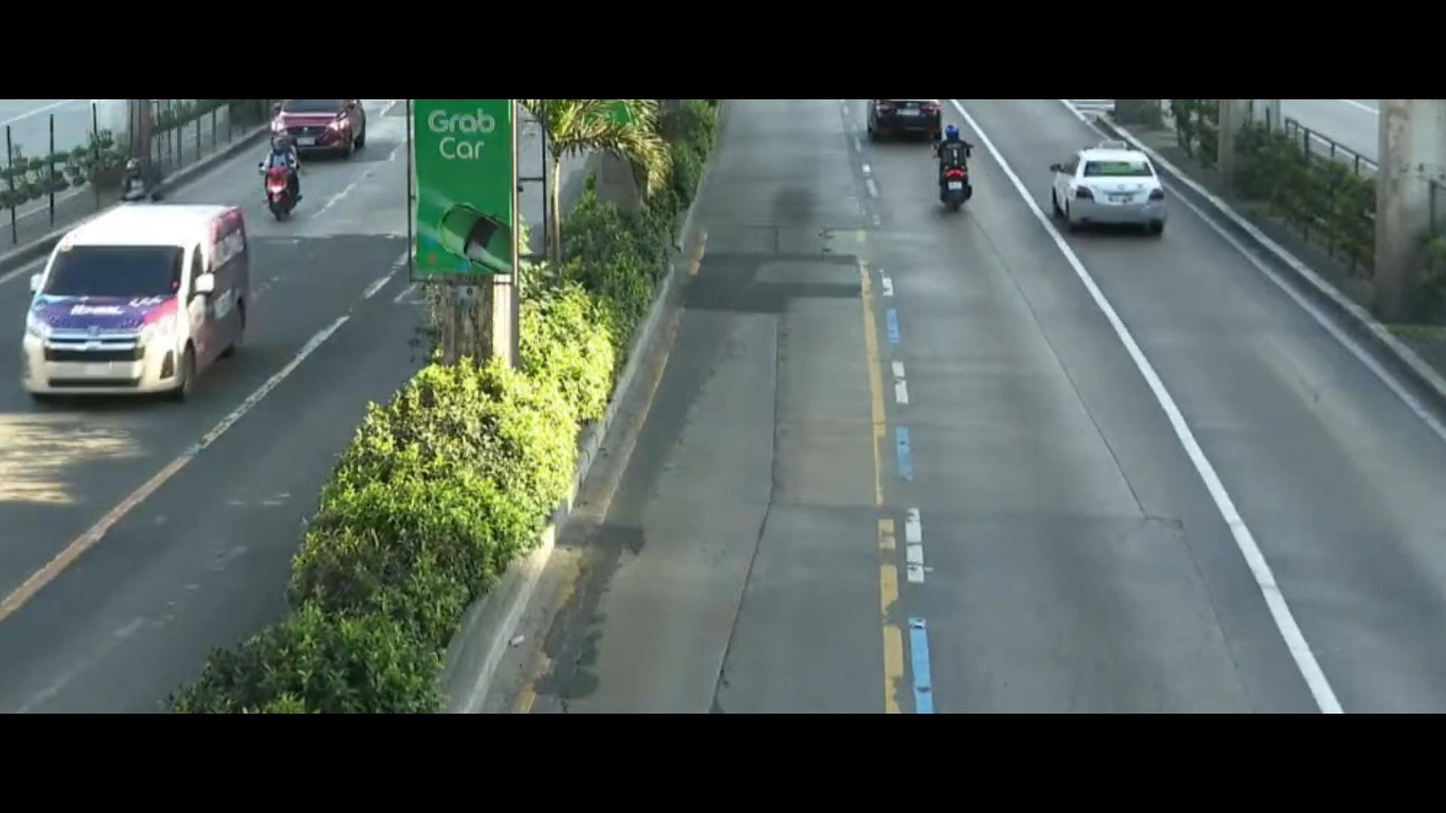Motorcycle: (244, 111, 322, 230), (921, 128, 987, 232), (117, 161, 169, 212)
SUV: (259, 107, 370, 159)
Sedan: (1037, 144, 1188, 260)
Van: (3, 199, 277, 422)
